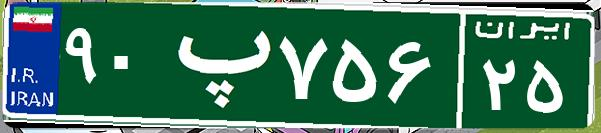0: (110, 28, 158, 105)
2: (475, 38, 525, 113)
5: (330, 28, 385, 110), (525, 38, 570, 115)
6: (385, 28, 445, 110)
7: (273, 28, 330, 110)
9: (57, 26, 110, 107)
پ: (158, 15, 273, 115)
